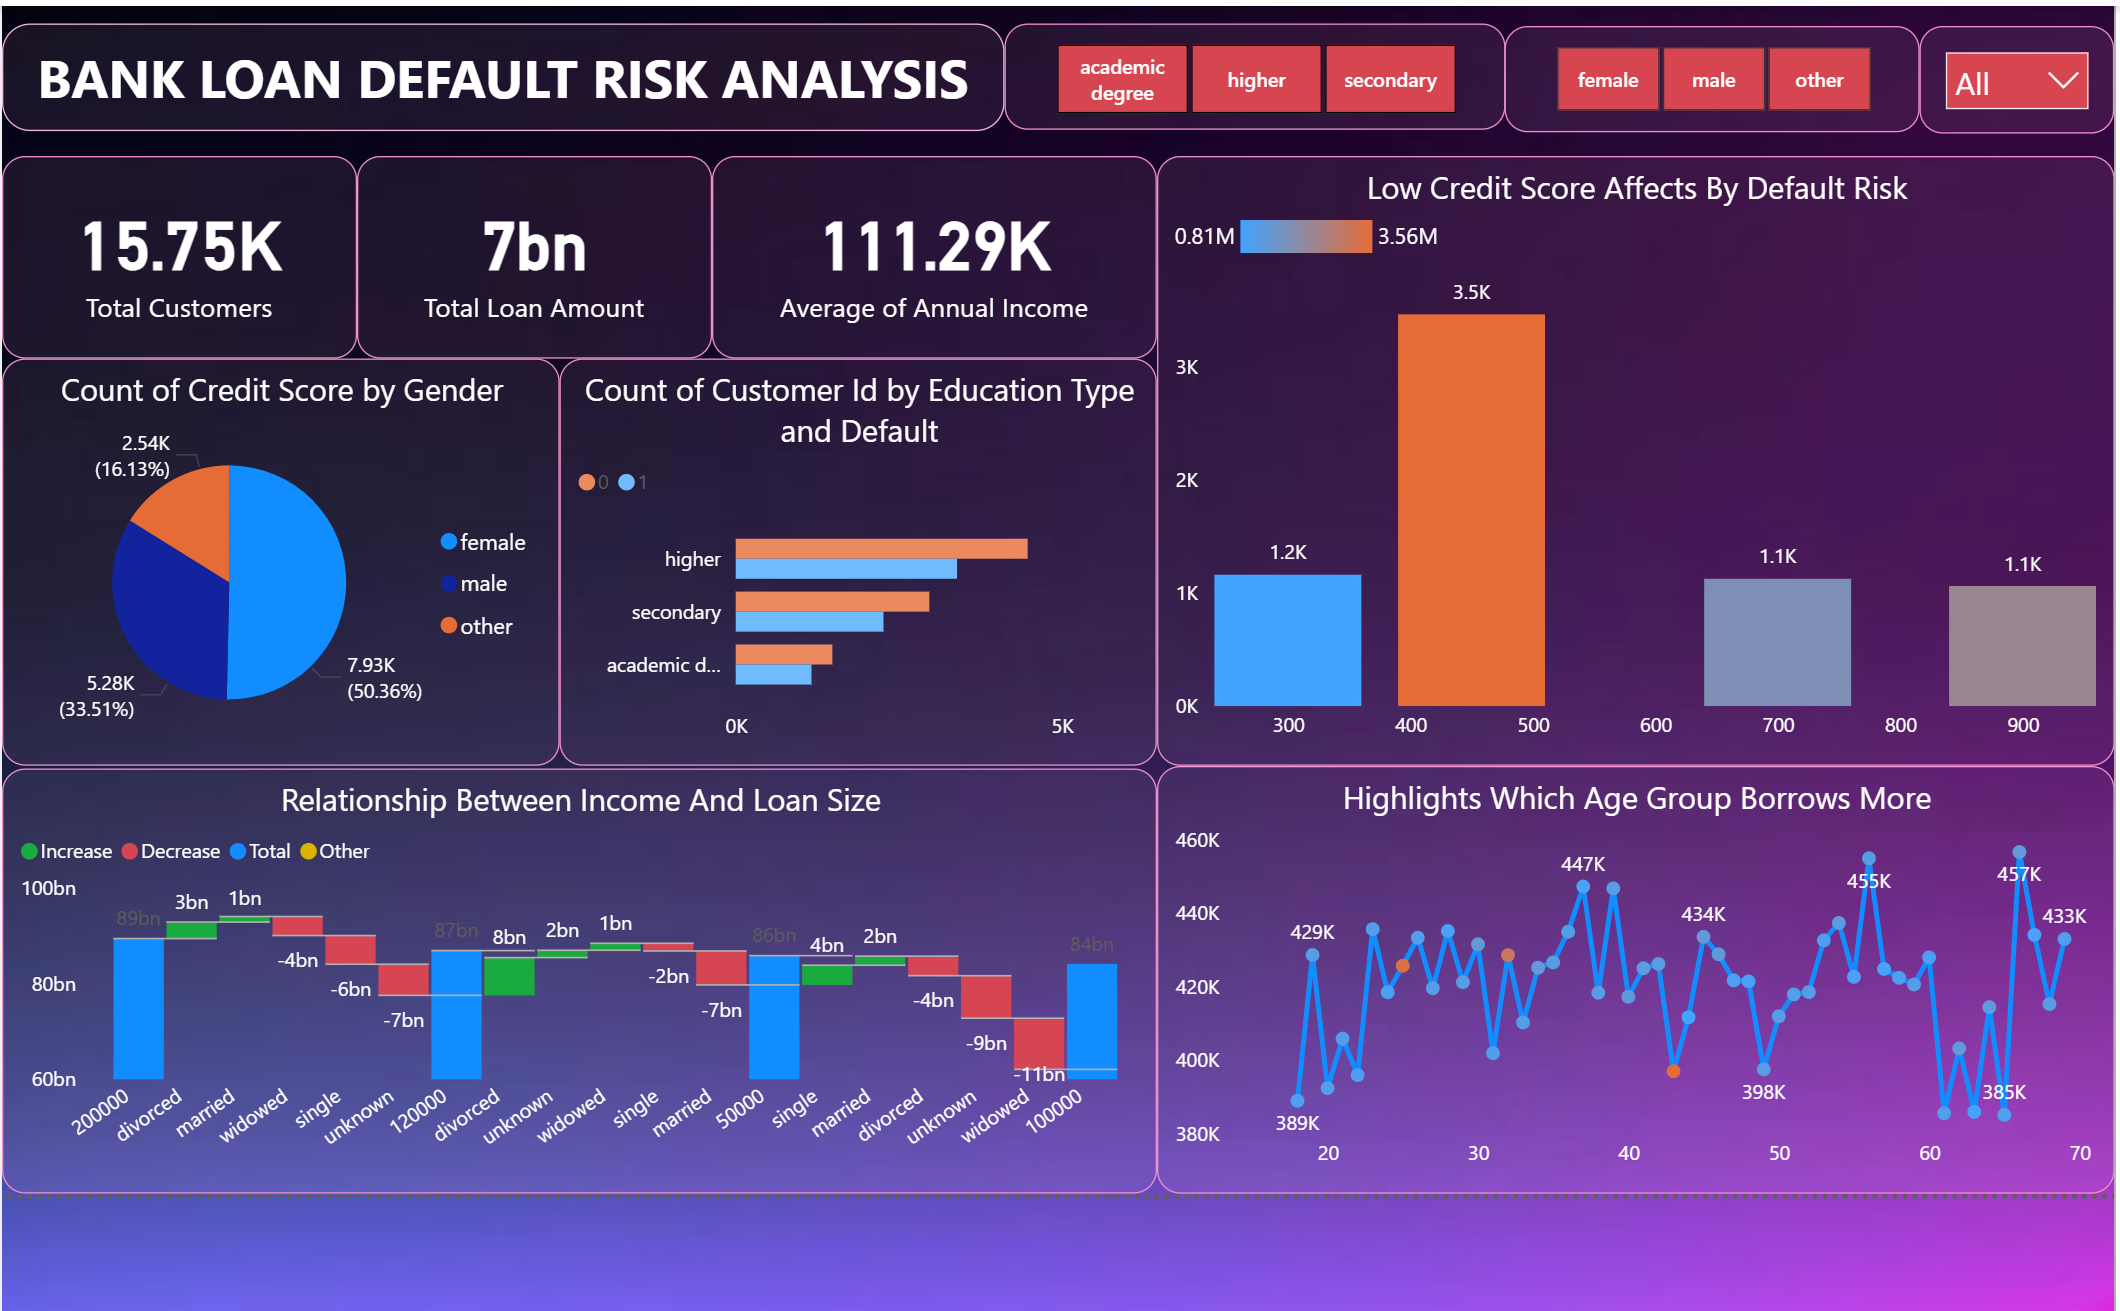

Layout of this report page (visuals, bound fields, positions):
{"tool":"powerbi","page":{"name":"Page 1","canvas":[1280,720],"ordinal":0},"visuals":[{"type":"clusteredBarChart","fields":{"Series":["Sheet1.Default"],"Category":["Sheet1.Education Type"],"Y":["CountNonNull(Sheet1.Customer Id)"]},"box":[337.9,213.6,362.1,247],"z":0},{"type":"pieChart","fields":{"Category":["Sheet1.Gender"],"Y":["CountNonNull(Sheet1.Credit Score)"]},"box":[0,213.6,337.9,247],"z":1000},{"type":"textbox","box":[0,10.6,607.6,65.2],"z":2000},{"type":"columnChart","title":"Low Credit Score Affects By Default Risk","fields":{"Category":["Sheet1.Credit Score"],"Y":["Sum(Sheet1.Default)"]},"box":[700,90.9,580.3,369.7],"z":3000},{"type":"waterfallChart","title":"Relationship Between Income And Loan Size","fields":{"Category":["Sheet1.Annual Income"],"Y":["Variance(Sheet1.Amt Credit)"],"Breakdown":["Sheet1.Marital Status"]},"box":[0,462.1,700,257.6],"z":4000},{"type":"areaChart","title":"Highlights Which Age Group Borrows More","fields":{"Category":["Sheet1.Age"],"Y":["Avg(Sheet1.Amt Credit)"]},"box":[700,460.6,580.3,259.1],"z":5000},{"type":"card","fields":{"Values":["CountNonNull(Sheet1.Customer Id)"]},"box":[0,90.9,215.2,122.7],"z":6000},{"type":"card","fields":{"Values":["Sum(Sheet1.Amt Credit)"]},"box":[215.2,90.9,215.2,122.7],"z":7000},{"type":"card","fields":{"Values":["Avg(Sheet1.Annual Income)"]},"box":[430.3,90.9,269.7,122.7],"z":8000},{"type":"slicer","fields":{"Values":["Sheet1.Gender"]},"box":[910.5,12.6,251.7,64.3],"z":9000},{"type":"slicer","fields":{"Values":["Sheet1.Education Type"]},"box":[607,11.2,303.5,64.3],"z":10000},{"type":"slicer","fields":{"Values":["Sheet1.State"]},"box":[1162.1,12.1,118.2,65.2],"z":11000}]}

Visuals, with their boxes on the page's 1280x720 design canvas (x1, y1, x2, y2). These are canvas units, not pixel positions in the 2120x1311 screenshot, which may show the page scaled, cropped or inside an application window:
clusteredBarChart - Sheet1.Default x Sheet1.Education Type: 338, 214, 700, 461
pieChart - Sheet1.Gender x CountNonNull(Sheet1.Credit Score): 0, 214, 338, 461
textbox: 0, 11, 608, 76
"Low Credit Score Affects By Default Risk" columnChart: 700, 91, 1280, 461
"Relationship Between Income And Loan Size" waterfallChart: 0, 462, 700, 720
"Highlights Which Age Group Borrows More" areaChart: 700, 461, 1280, 720
card - CountNonNull(Sheet1.Customer Id): 0, 91, 215, 214
card - Sum(Sheet1.Amt Credit): 215, 91, 430, 214
card - Avg(Sheet1.Annual Income): 430, 91, 700, 214
slicer - Sheet1.Gender: 910, 13, 1162, 77
slicer - Sheet1.Education Type: 607, 11, 910, 76
slicer - Sheet1.State: 1162, 12, 1280, 77
